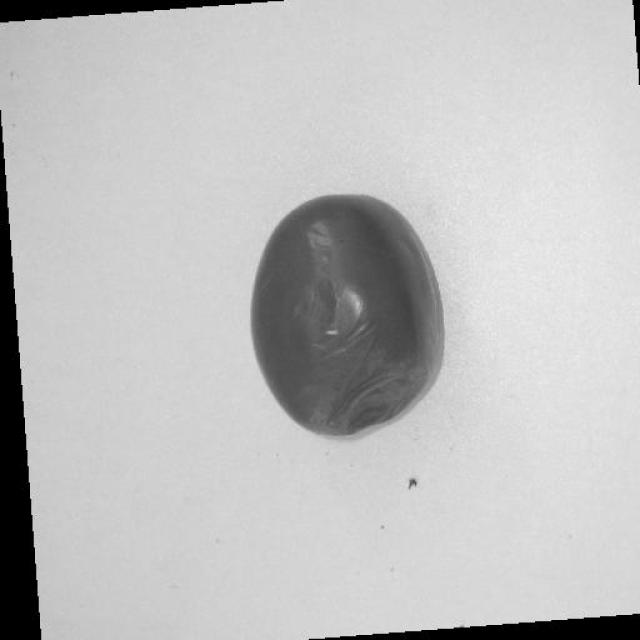Stale_tomato: (293, 306, 445, 430)
